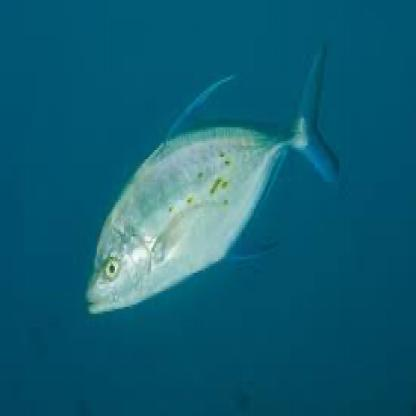Carangidae -Jacks-: (85, 40, 345, 324)
